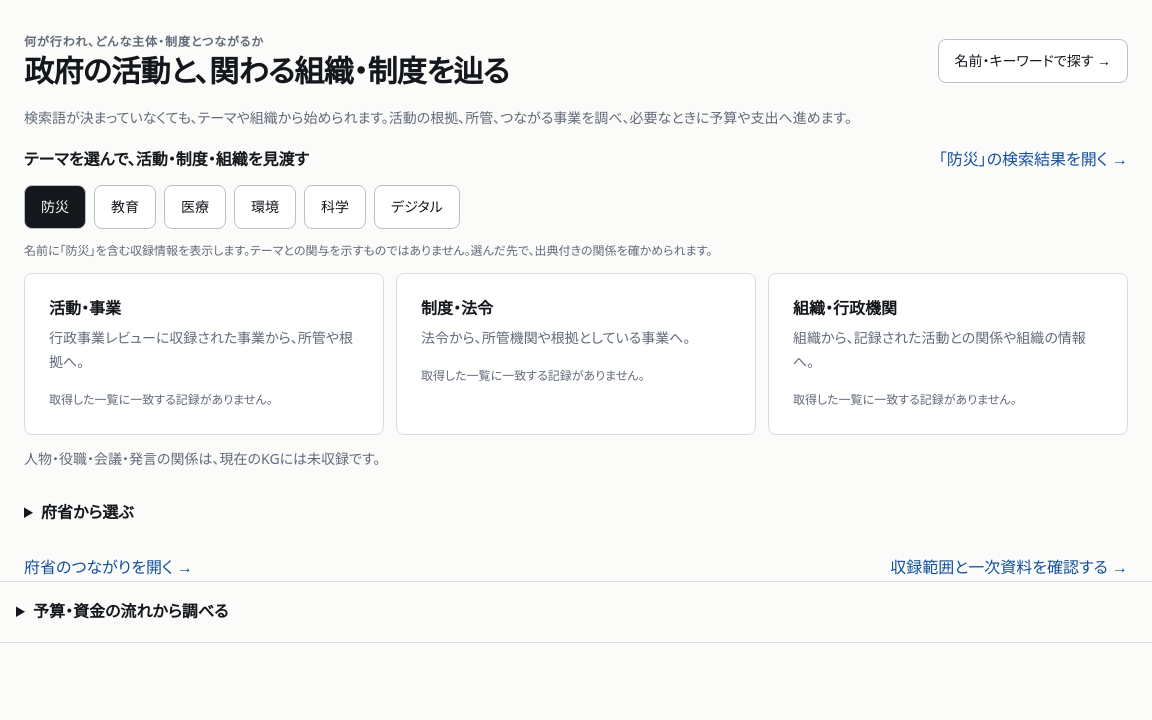
Test case: TopPage(トップページ再設計) › 資金の流れ: 児童手当の例(国→市町村→受給者)が同じ金額で繋がって出る。足し算はしていない
What coordinates should you click on to do the following:
click the heading "予算・資金の流れから調べる"
I would click on:
 (131, 611)
Its box is [0,581,1151,643].
(page scrolled)
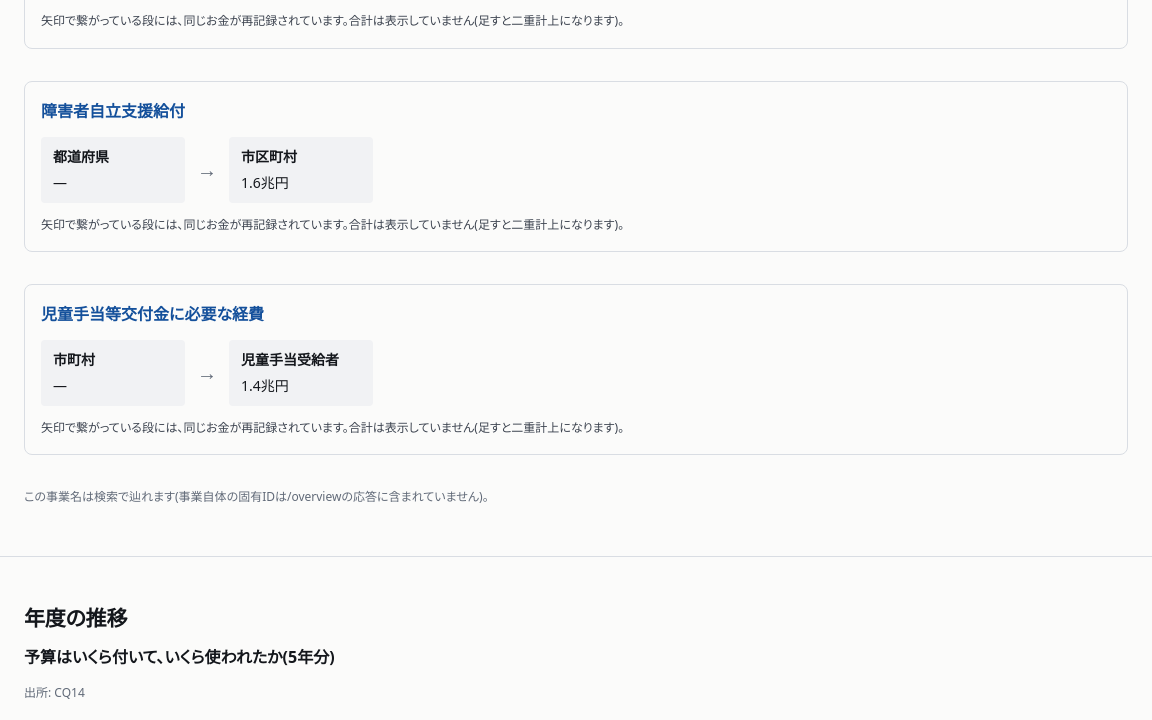
Check: the link "児童手当等交付金に必要な経費" is shown, box [41,301,264,328]
Check: the text "市町村" is shown, box [53,350,95,369]
Check: the text "児童手当受給者" is shown, box [241,350,339,369]
